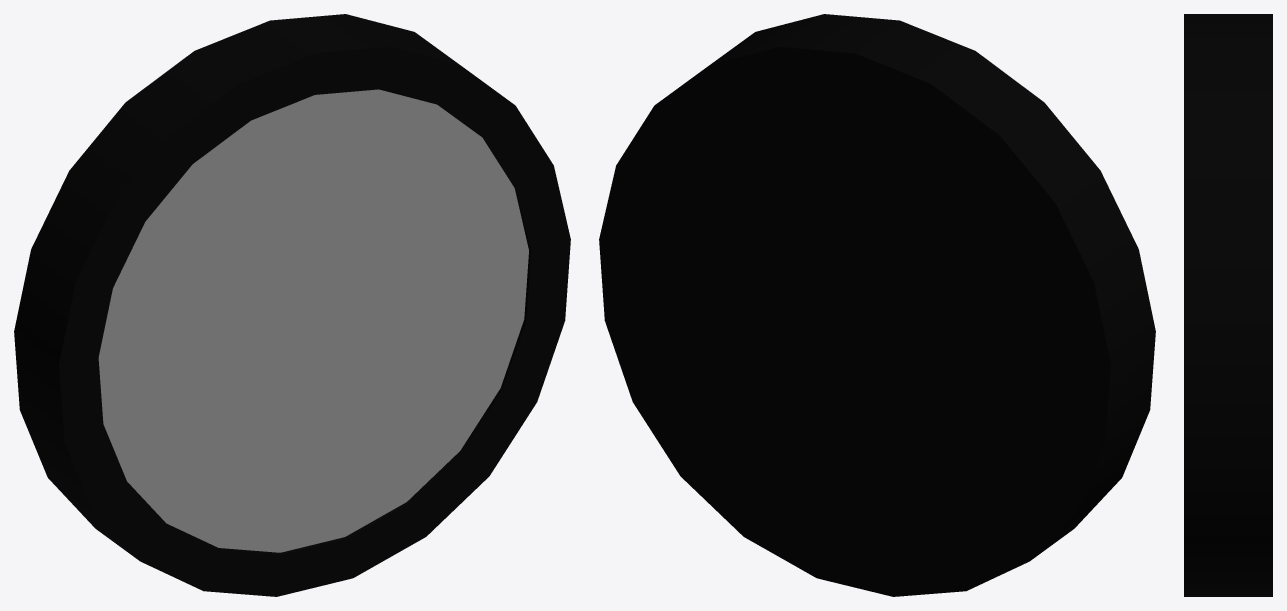
Rendered from Clock.FBX.
The picture shows the model from 3 angles, left to right: view 1: azimuth 30°, elevation 25°; view 2: azimuth 150°, elevation 25°; view 3: azimuth 270°, elevation 25°; orthographic projection.
Visible parts, largest first — view 1: Clock; view 2: Clock; view 3: Clock.
Boxes of the visible parts, <box> form: Clock: <box>14,14,570,596</box>; Clock: <box>599,14,1155,596</box>; Clock: <box>1184,14,1272,596</box>.
Bounding box in the file's own units: 41.56 × 41.44 × 6.31.
Materials: 2 (1 with a texture image).
